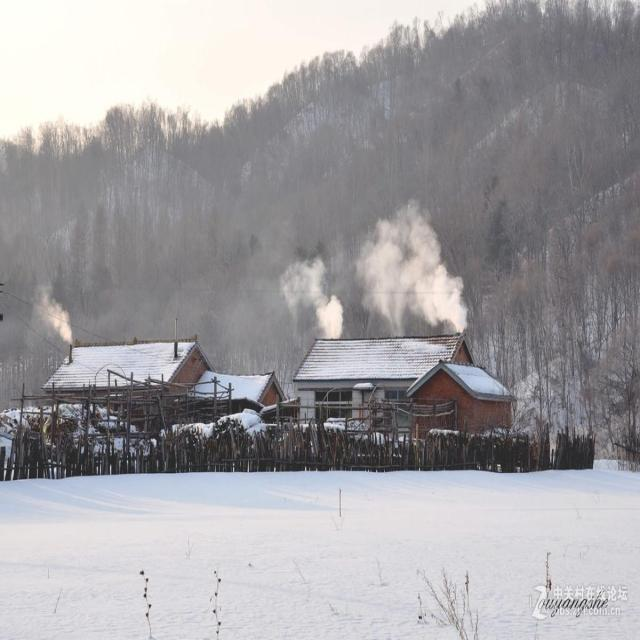Smoke: (353, 198, 469, 338), (280, 255, 344, 340), (34, 292, 74, 346)
